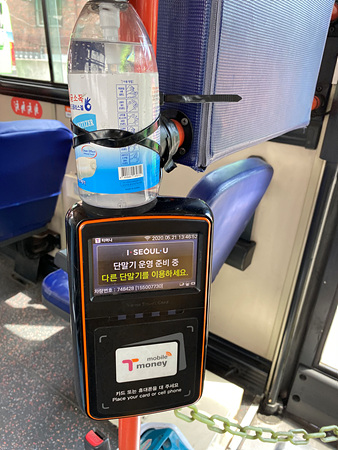terminal: (71, 211, 198, 406)
